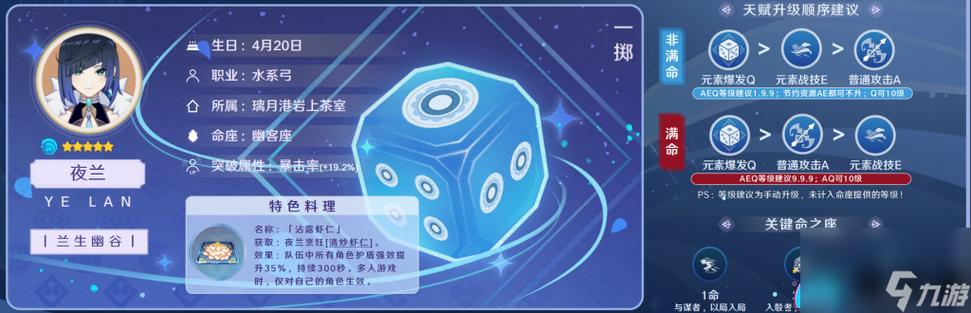夜兰: (31, 30, 142, 130)
